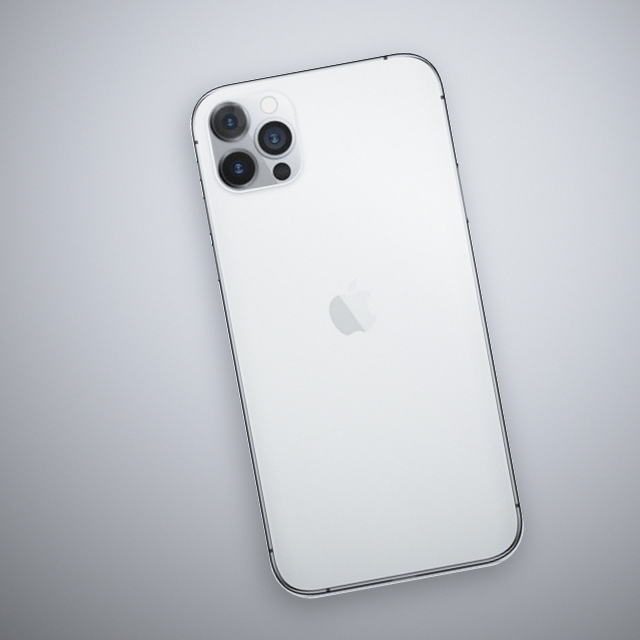iphone_12pro_silver: (172, 48, 538, 601), (201, 84, 309, 198)
